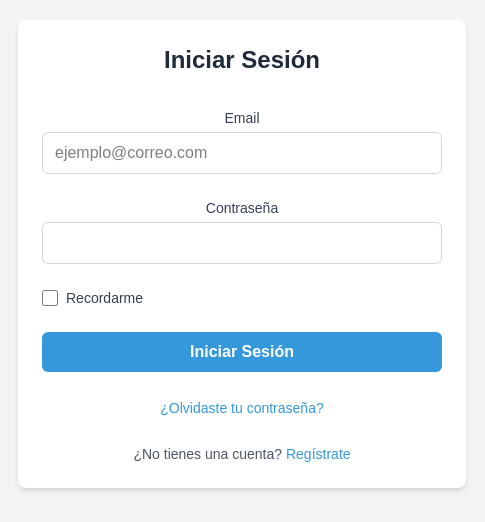
LoginForm Component › muestra error si el email no es válido
This screenshot has width=485, height=522.
Type "correo-no-valido" into the field labelled "Email" at (242, 153), box [42, 132, 442, 174]
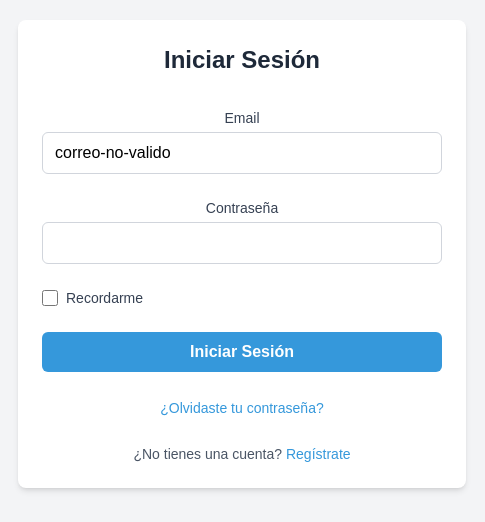
Click the button "Iniciar Sesión" at (242, 352), box [42, 332, 442, 372]
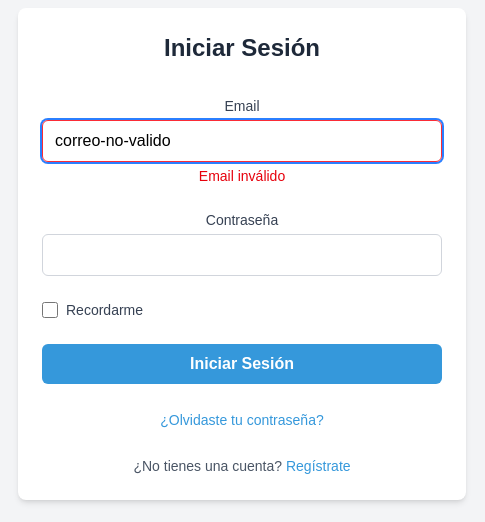
Check: the text "Email inválido" is shown, box [199, 168, 285, 184]
